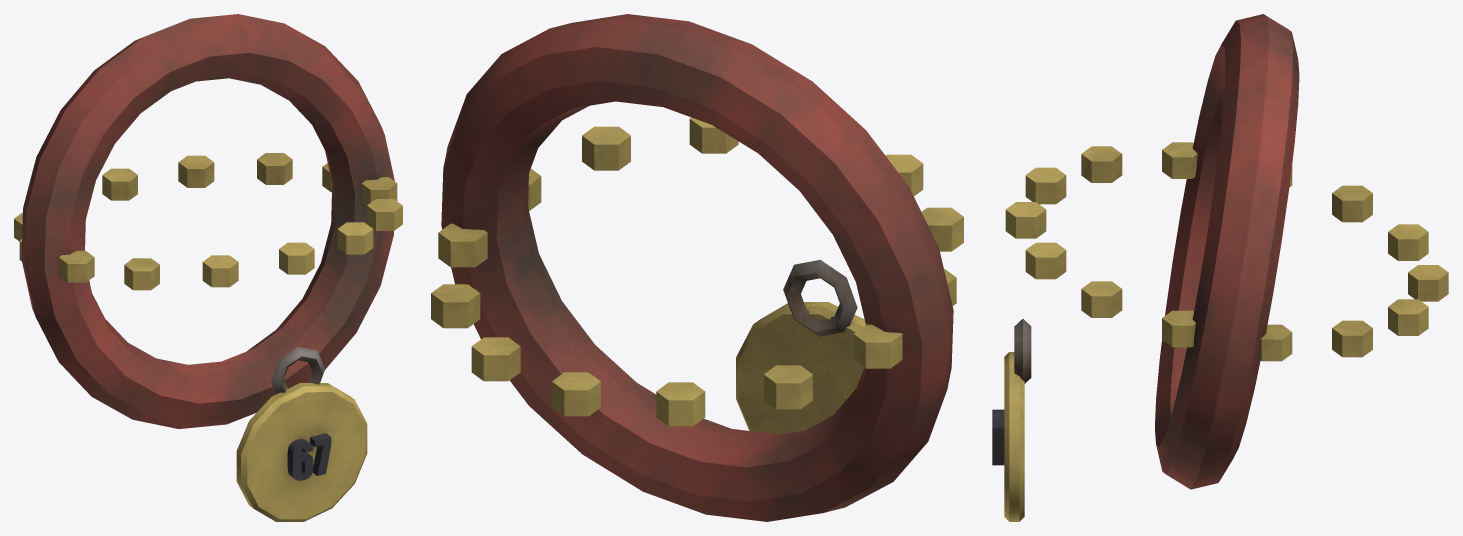
File: g67_pz_collar67.glb
3 renders of one model, left to right at view 1: azimuth 30°, elevation 25°; view 2: azimuth 150°, elevation 25°; view 3: azimuth 270°, elevation 25°, orthographic. The views are drawn at different scales.
Parts seen in each view (by area): view 1: g67_pz_collar67; view 2: g67_pz_collar67; view 3: g67_pz_collar67.
Part boxes in pixels (x1,y1,x2,y2): g67_pz_collar67: (14, 14, 402, 521); g67_pz_collar67: (431, 14, 963, 521); g67_pz_collar67: (992, 14, 1448, 521).
Size of the model in its own units: 0.284 by 0.3098 by 0.2682.
1 material, 1 textured.
